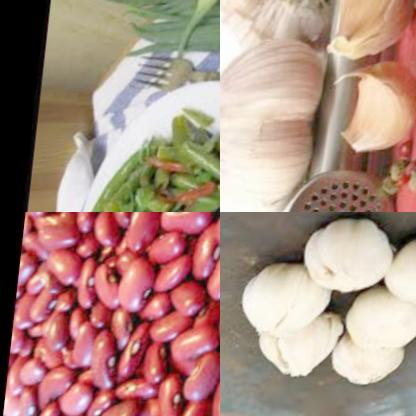fasol: (0, 212, 220, 416), (61, 115, 220, 212)
garlic: (220, 39, 330, 212), (302, 216, 402, 299), (337, 58, 416, 163), (220, 0, 344, 59), (323, 325, 416, 395), (248, 265, 336, 334), (330, 0, 416, 69), (260, 315, 349, 381), (341, 293, 416, 366), (386, 230, 416, 315)
